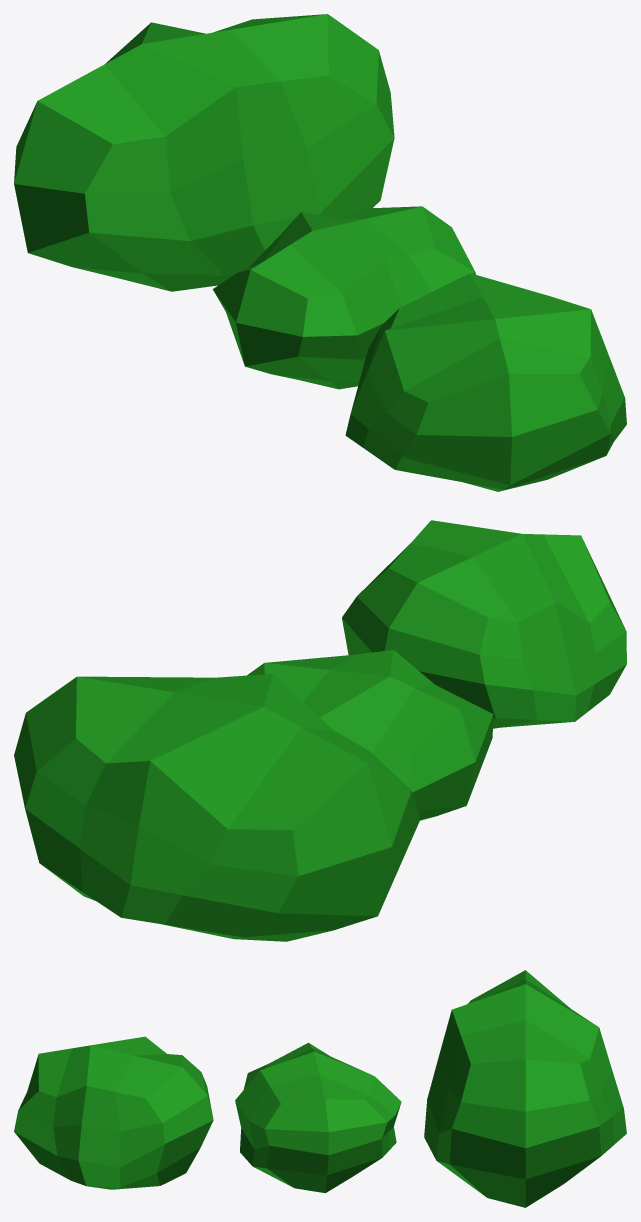
File: low_poly_bush_asset.glb
3 views of the same model, one above another, from view 1: azimuth 30°, elevation 25°; view 2: azimuth 150°, elevation 25°; view 3: azimuth 270°, elevation 25° (orthographic). The views are drawn at different scales.
Visible parts, largest first — view 1: ruler_flower2, ruler_flower4, ruler_flower3; view 2: ruler_flower2, ruler_flower4, ruler_flower3; view 3: ruler_flower2, ruler_flower4, ruler_flower3.
Part boxes in pixels (x1,y1,x2,y2): ruler_flower2: (14, 14, 394, 291); ruler_flower4: (345, 273, 626, 491); ruler_flower3: (212, 206, 475, 389); ruler_flower2: (14, 673, 420, 941); ruler_flower4: (342, 520, 626, 728); ruler_flower3: (247, 649, 493, 820); ruler_flower2: (424, 970, 626, 1207); ruler_flower4: (14, 1036, 213, 1189); ruler_flower3: (235, 1042, 401, 1193).
Size of the model in its own units: 450 by 261 by 890.
